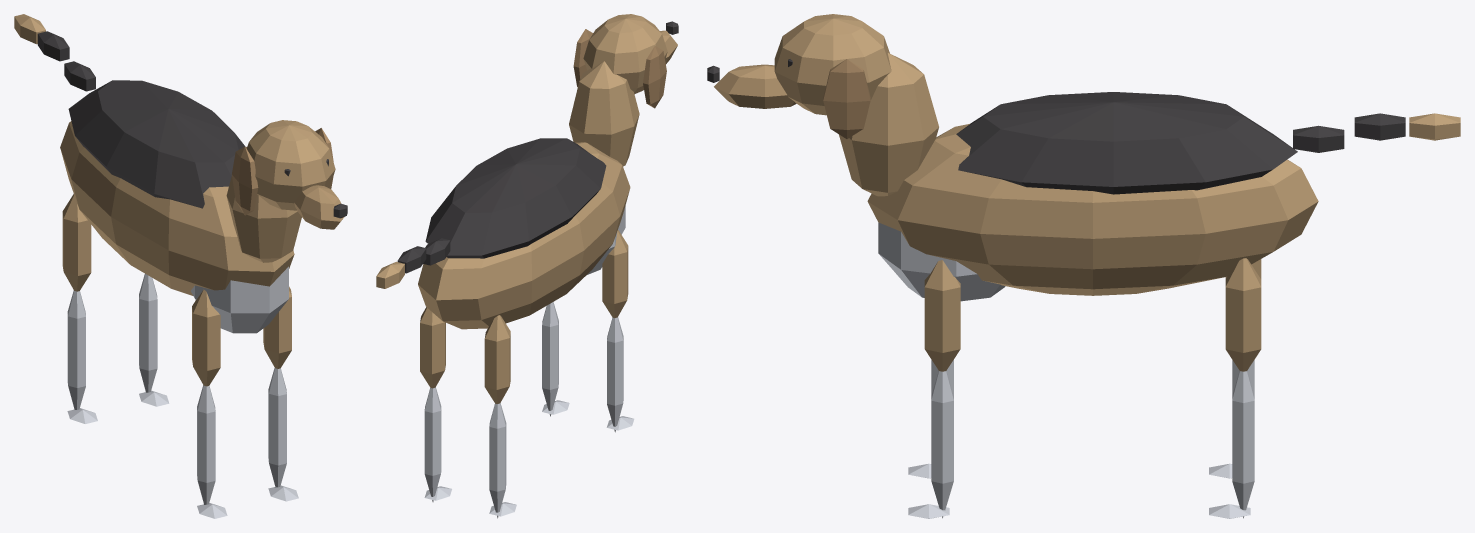
The model's file is ajokoira.glb.
3 renders of one model, left to right at view 1: azimuth 30°, elevation 25°; view 2: azimuth 150°, elevation 25°; view 3: azimuth 270°, elevation 25°, orthographic. The views are drawn at different scales.
Parts seen in each view (by area): view 1: runko, paa, jalka_eo, jalka_to, jalka_ev, jalka_tv, hanta, korva_o; view 2: runko, paa, jalka_to, jalka_tv, jalka_eo, jalka_ev, hanta, korva_o, korva_v; view 3: runko, paa, jalka_tv, jalka_ev, hanta, korva_v, leuka.
Boxes of the visible parts, box(x1,y1,x2,y2) form: runko: box(60, 80, 301, 333); paa: box(246, 120, 347, 221); jalka_eo: box(192, 289, 227, 518); jalka_to: box(62, 194, 97, 423); jalka_ev: box(263, 286, 298, 501); jalka_tv: box(139, 274, 169, 406); hanta: box(14, 14, 95, 91); korva_o: box(231, 146, 258, 215); runko: box(418, 61, 639, 329); paa: box(583, 14, 678, 94); jalka_to: box(484, 315, 516, 518); jalka_tv: box(420, 307, 451, 502); jalka_eo: box(602, 230, 634, 432); jalka_ev: box(542, 302, 569, 416); hanta: box(376, 238, 450, 288); korva_o: box(643, 46, 666, 108); korva_v: box(573, 29, 592, 86); runko: box(839, 53, 1318, 301); paa: box(707, 14, 891, 115); jalka_tv: box(1209, 258, 1261, 518); jalka_ev: box(908, 260, 960, 518); hanta: box(1293, 113, 1460, 152); korva_v: box(823, 59, 870, 138); leuka: box(714, 87, 796, 108).
Size of the model in its own units: 0.26 by 0.775 by 1.1.
